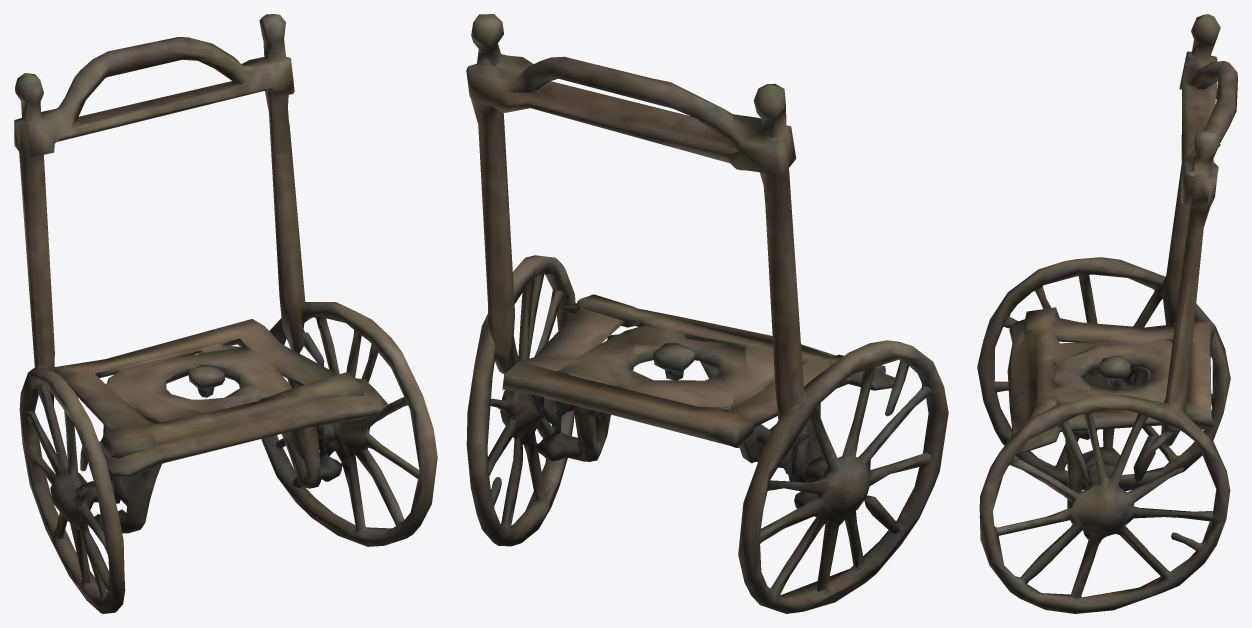
Rendered from ornate-wood-wheelchair-v002.glb.
3 renders of one model, left to right at view 1: azimuth 30°, elevation 25°; view 2: azimuth 150°, elevation 25°; view 3: azimuth 270°, elevation 25°, orthographic. The views are drawn at different scales.
Parts seen in each view (by area): view 1: ornate-wood-wheelchair; view 2: ornate-wood-wheelchair; view 3: ornate-wood-wheelchair.
Boxes of the visible parts, x1=… form: ornate-wood-wheelchair: x1=14, y1=14, x2=437, y2=613; ornate-wood-wheelchair: x1=466, y1=14, x2=948, y2=613; ornate-wood-wheelchair: x1=977, y1=14, x2=1237, y2=613.
Bounding box in the file's own units: 0.6674 × 0.9262 × 0.4634.
1 material, 1 textured.
